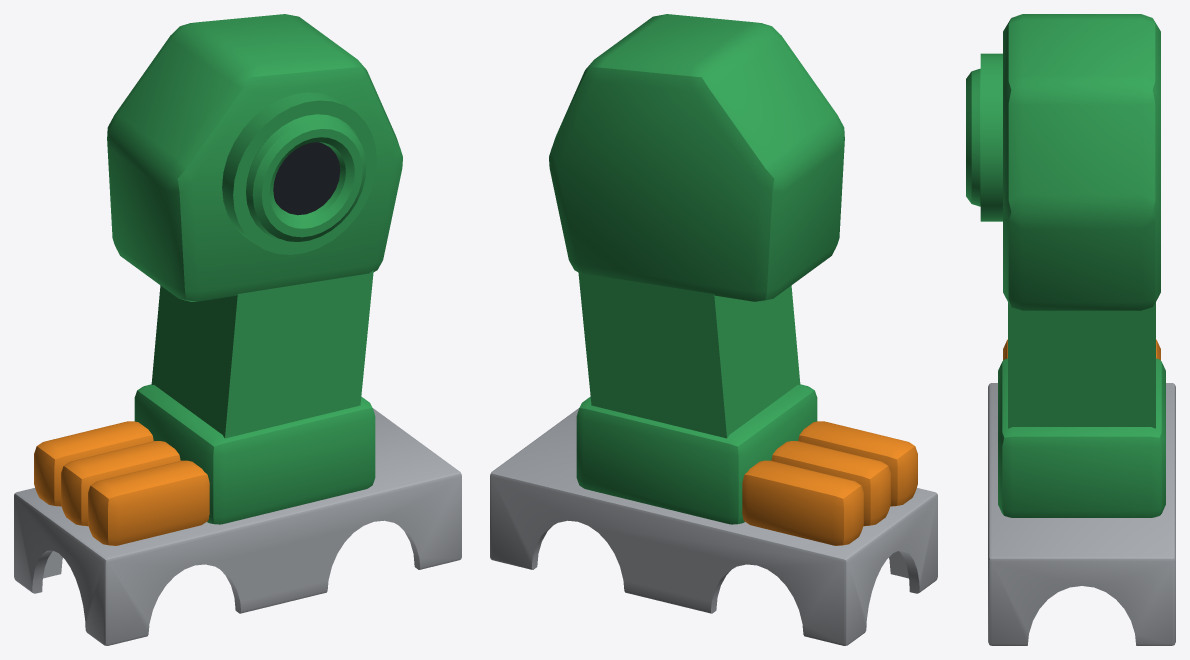
The picture shows the model from 3 angles, left to right: view 1: azimuth 30°, elevation 25°; view 2: azimuth 150°, elevation 25°; view 3: azimuth 270°, elevation 25°; orthographic projection.
Parts seen in each view (by area): view 1: M-59; view 2: M-59; view 3: M-59.
Boxes of the visible parts, <box> form: M-59: <box>14,14,461,645</box>; M-59: <box>490,14,937,645</box>; M-59: <box>966,14,1175,645</box>.
Size of the model in its own units: 0.0846 by 0.1194 by 0.0425.
